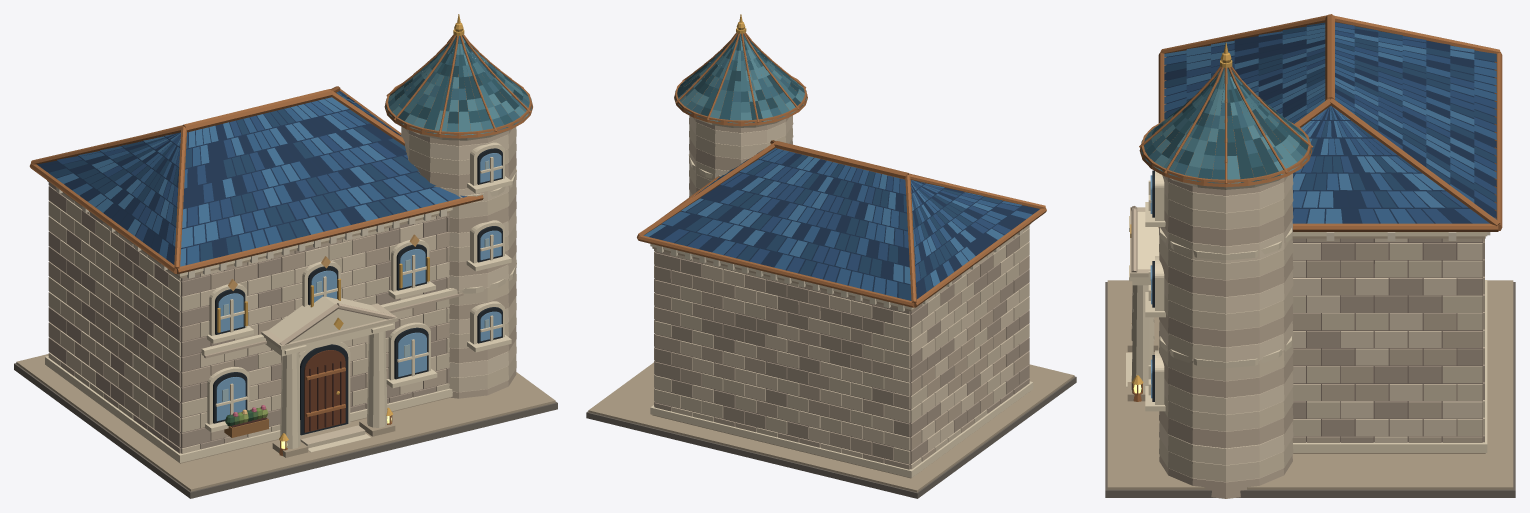
Rendered from noble-nivel-4.glb.
The picture shows the model from 3 angles, left to right: view 1: azimuth 30°, elevation 25°; view 2: azimuth 150°, elevation 25°; view 3: azimuth 270°, elevation 25°; orthographic projection. The views are drawn at different scales.
Parts seen in each view (by area): view 1: Casa nobre 04 #e6d7ba, Casa nobre 04 #d3c3a9, Casa nobre 04 #c1af99, Casa nobre 04 #dac9af, Casa nobre 04 #20354f, Casa nobre 04 #ae9d8b, Casa nobre 04 #b4a38a, Casa nobre 04 #a76e42, Casa nobre 04 #355c80, Casa nobre 04 #426e90, Casa nobre 04 #284763, Casa nobre 04 #2d4d71 (+13 smaller); view 2: Casa nobre 04 #c1af99, Casa nobre 04 #dac9af, Casa nobre 04 #ae9d8b, Casa nobre 04 #d3c3a9, Casa nobre 04 #20354f, Casa nobre 04 #b4a38a, Casa nobre 04 #a76e42, Casa nobre 04 #355c80, Casa nobre 04 #284763, Casa nobre 04 #2d4d71, Casa nobre 04 #426e90, Casa nobre 04 #e6d7ba (+8 smaller); view 3: Casa nobre 04 #dac9af, Casa nobre 04 #c1af99, Casa nobre 04 #d3c3a9, Casa nobre 04 #b4a38a, Casa nobre 04 #20354f, Casa nobre 04 #a76e42, Casa nobre 04 #e6d7ba, Casa nobre 04 #ae9d8b, Casa nobre 04 #355c80, Casa nobre 04 #426e90, Casa nobre 04 #2d4d71, Casa nobre 04 #284763 (+7 smaller).
Boxes of the visible parts, x1,y1,x2,y2 form: Casa nobre 04 #e6d7ba: (45, 130, 516, 462); Casa nobre 04 #d3c3a9: (48, 137, 516, 448); Casa nobre 04 #c1af99: (48, 129, 516, 443); Casa nobre 04 #dac9af: (48, 127, 516, 453); Casa nobre 04 #20354f: (37, 97, 448, 265); Casa nobre 04 #ae9d8b: (48, 182, 449, 453); Casa nobre 04 #b4a38a: (16, 180, 555, 491); Casa nobre 04 #a76e42: (29, 34, 532, 455); Casa nobre 04 #355c80: (72, 94, 460, 264); Casa nobre 04 #426e90: (56, 92, 446, 266); Casa nobre 04 #284763: (48, 92, 435, 261); Casa nobre 04 #2d4d71: (57, 91, 466, 244); Casa nobre 04 #c1af99: (654, 118, 1029, 469); Casa nobre 04 #dac9af: (654, 115, 1029, 469); Casa nobre 04 #ae9d8b: (654, 235, 1029, 463); Casa nobre 04 #d3c3a9: (654, 125, 1029, 464); Casa nobre 04 #20354f: (649, 148, 1039, 298); Casa nobre 04 #b4a38a: (588, 223, 1074, 492); Casa nobre 04 #a76e42: (637, 32, 1046, 307); Casa nobre 04 #355c80: (662, 148, 1032, 297); Casa nobre 04 #284763: (675, 155, 1002, 300); Casa nobre 04 #2d4d71: (663, 151, 1019, 282); Casa nobre 04 #426e90: (644, 149, 1003, 286); Casa nobre 04 #e6d7ba: (650, 118, 1033, 477); Casa nobre 04 #dac9af: (1159, 173, 1482, 465); Casa nobre 04 #c1af99: (1131, 176, 1484, 498); Casa nobre 04 #d3c3a9: (1130, 186, 1484, 481); Casa nobre 04 #b4a38a: (1107, 236, 1513, 489); Casa nobre 04 #20354f: (1164, 24, 1496, 223); Casa nobre 04 #a76e42: (1132, 14, 1502, 401); Casa nobre 04 #e6d7ba: (1126, 171, 1487, 452); Casa nobre 04 #ae9d8b: (1292, 238, 1484, 442); Casa nobre 04 #355c80: (1164, 26, 1496, 223); Casa nobre 04 #426e90: (1164, 24, 1496, 223); Casa nobre 04 #2d4d71: (1186, 22, 1496, 223); Casa nobre 04 #284763: (1164, 22, 1496, 207).
Size of the model in its own units: 9.56 by 8.74 by 7.58.
